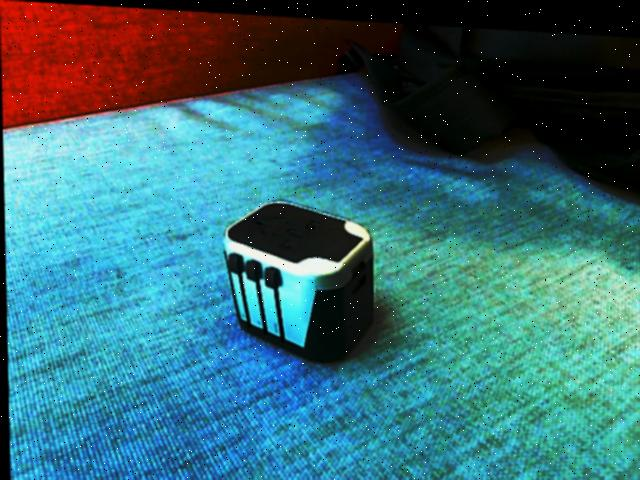adapter: (219, 193, 374, 361)
